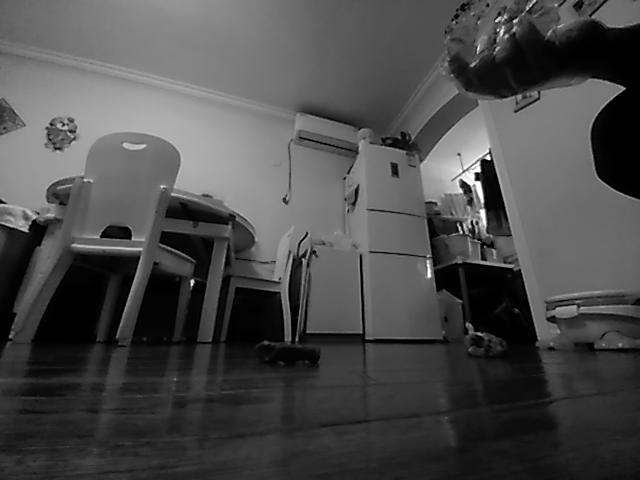others: (464, 329, 509, 359)
pet feces: (249, 339, 322, 368)
